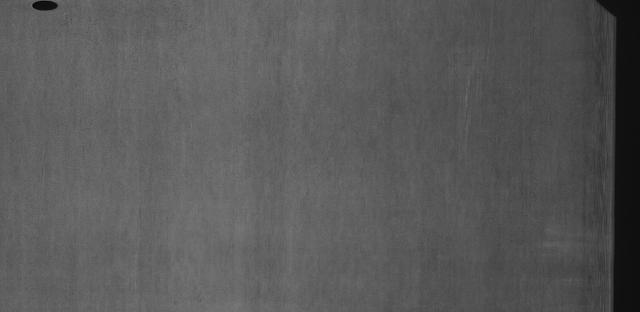punching_hole: (28, 0, 60, 12)
